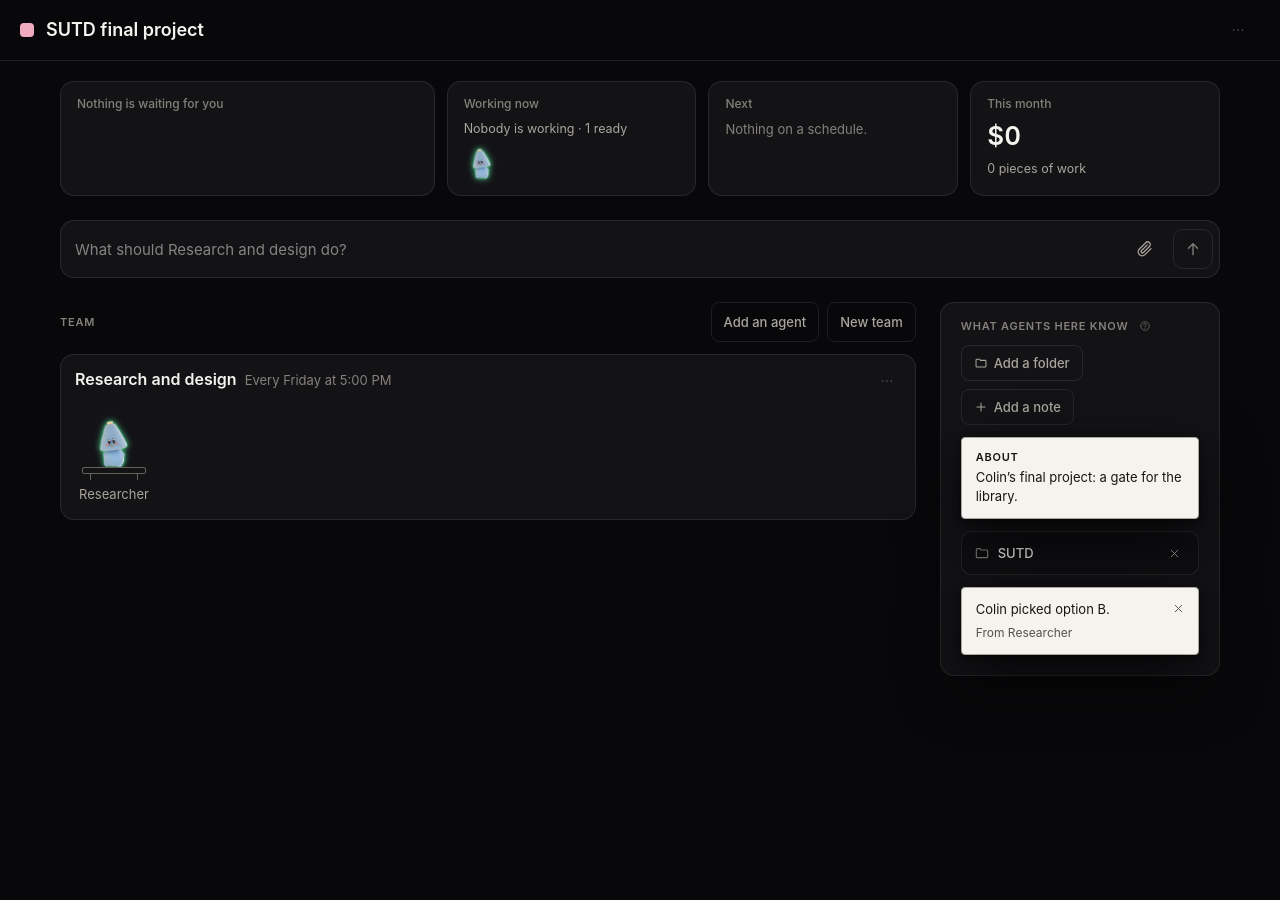
Test case: a project’s room (ADR 0097) › adds a team to another project from its "…", with its own place there
Click the button named "More for Research and design" at (887, 381), box [865,359,909,403]
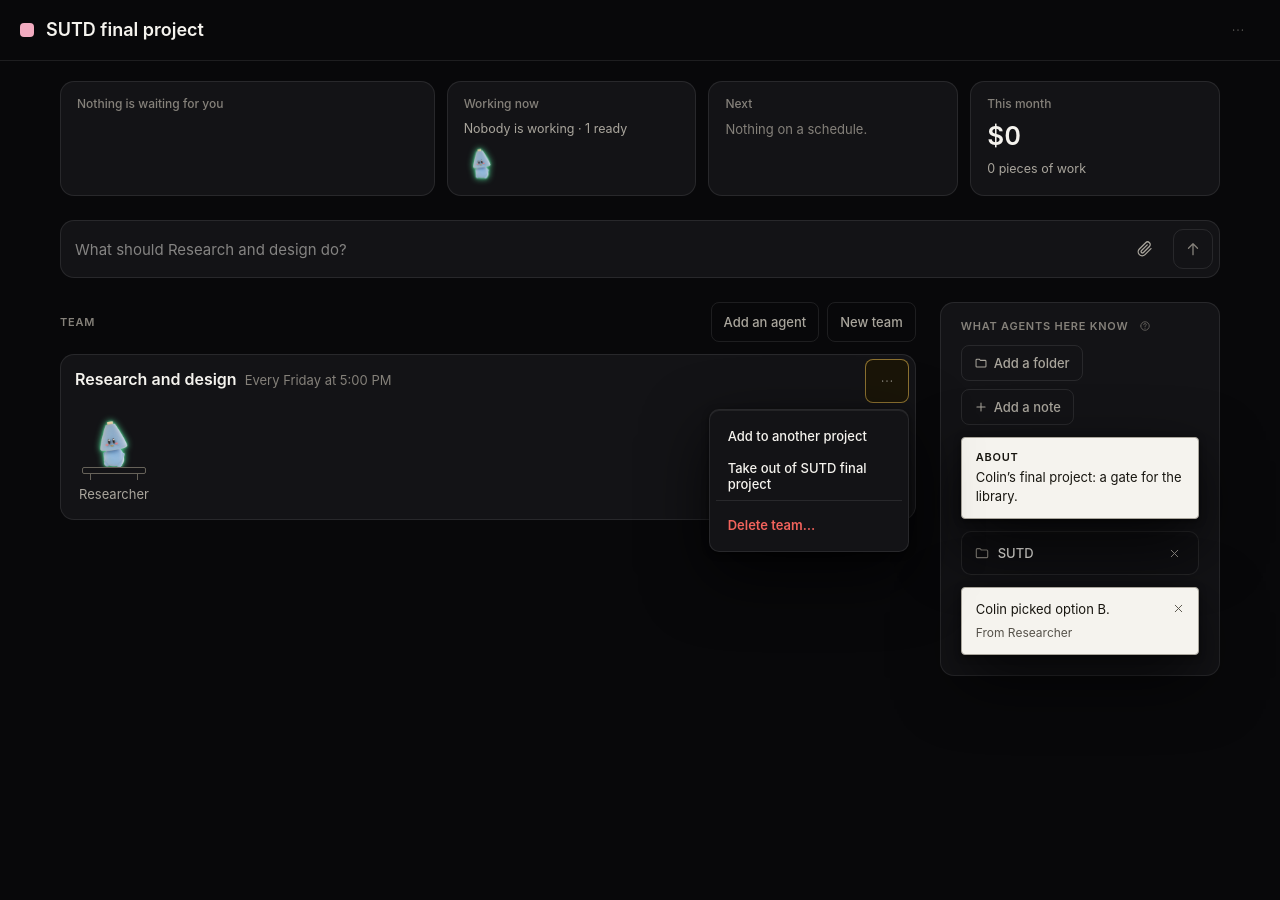
Click the menu item "Add to another project" at (809, 436), box [716,416,902,456]
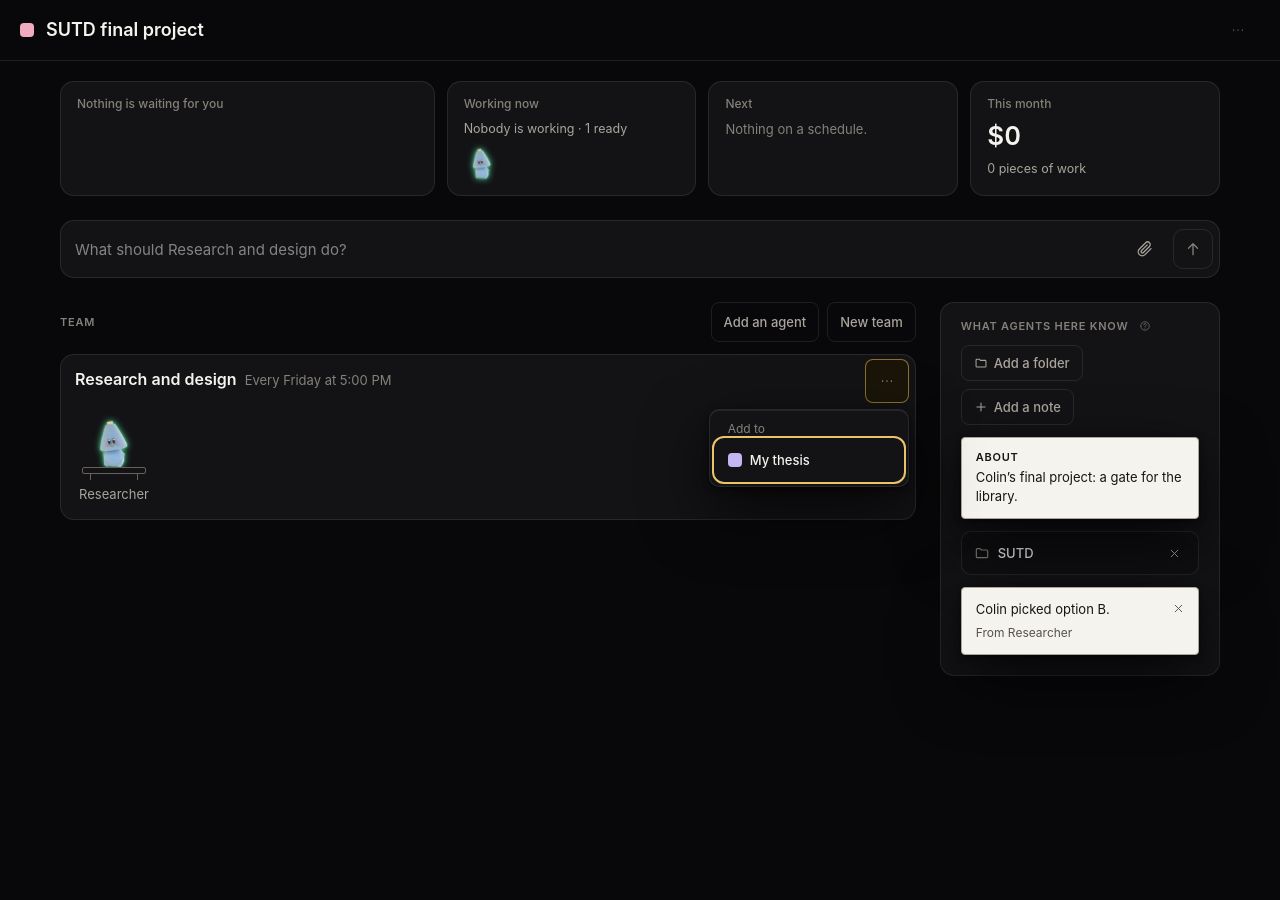
Expected: the menu items read "My thesis", in this order
Click the menu item "My thesis" at (809, 460), box [716,440,902,480]
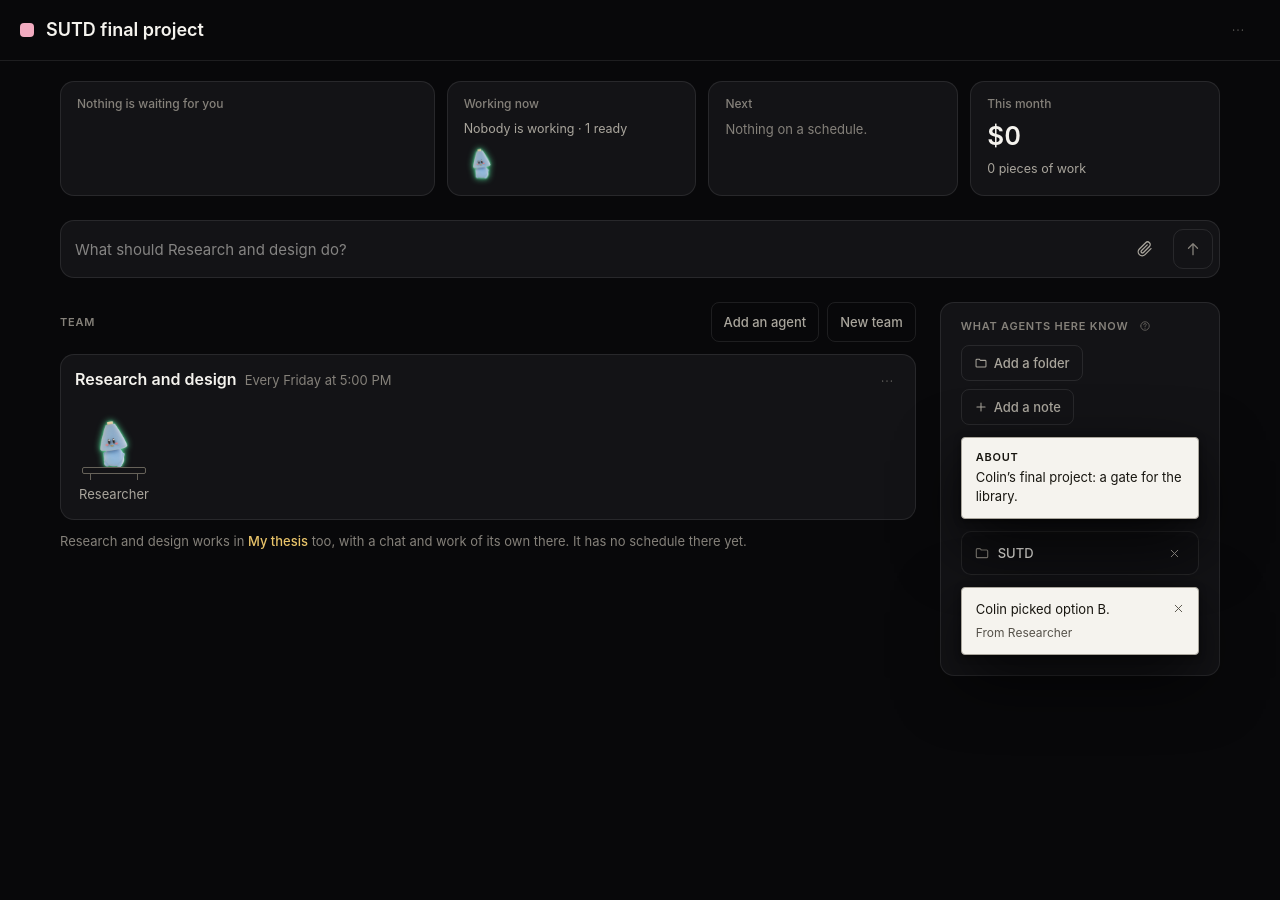
Expected: the message shows "Research and design works in My thesis too, with a chat and work of its own there. It has no schedule there yet.", [60,532,747,548]
